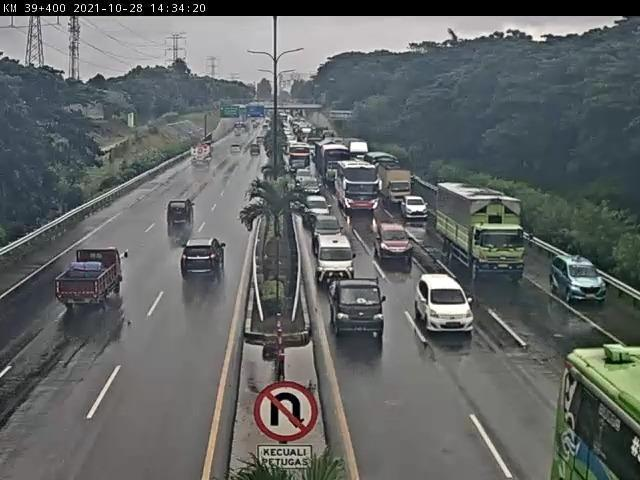bus: (335, 160, 381, 212)
car: (328, 276, 387, 343), (415, 274, 476, 338), (550, 251, 612, 304), (317, 234, 358, 286), (182, 237, 229, 278), (375, 221, 416, 266), (312, 211, 343, 245), (304, 195, 331, 225), (166, 198, 197, 224), (403, 196, 432, 222), (301, 178, 322, 198), (295, 168, 313, 187)
truck: (434, 178, 529, 280), (56, 247, 131, 311), (378, 165, 414, 206), (316, 142, 350, 185)
